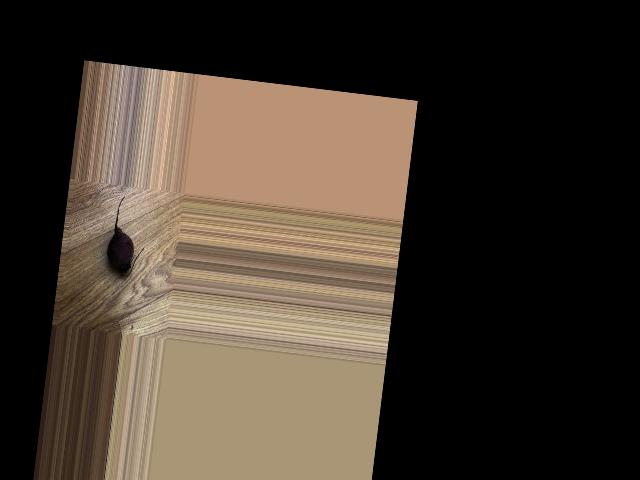beet: (104, 194, 149, 278)
